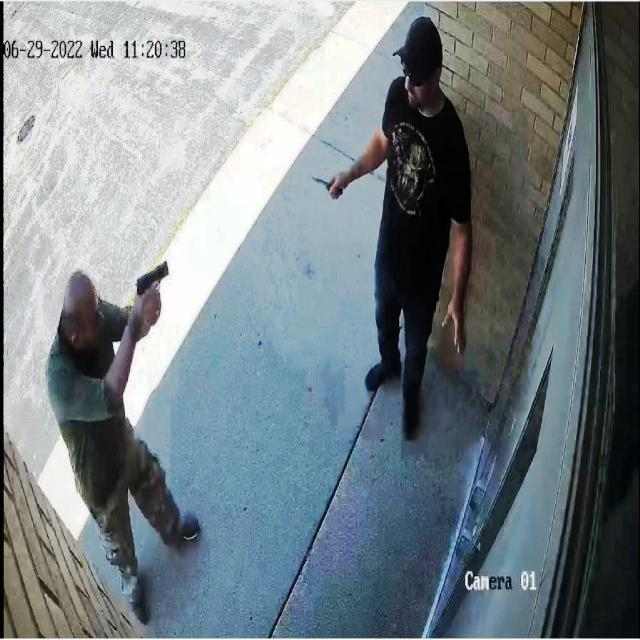Gun: (133, 249, 194, 320)
Knife: (304, 165, 341, 198)
